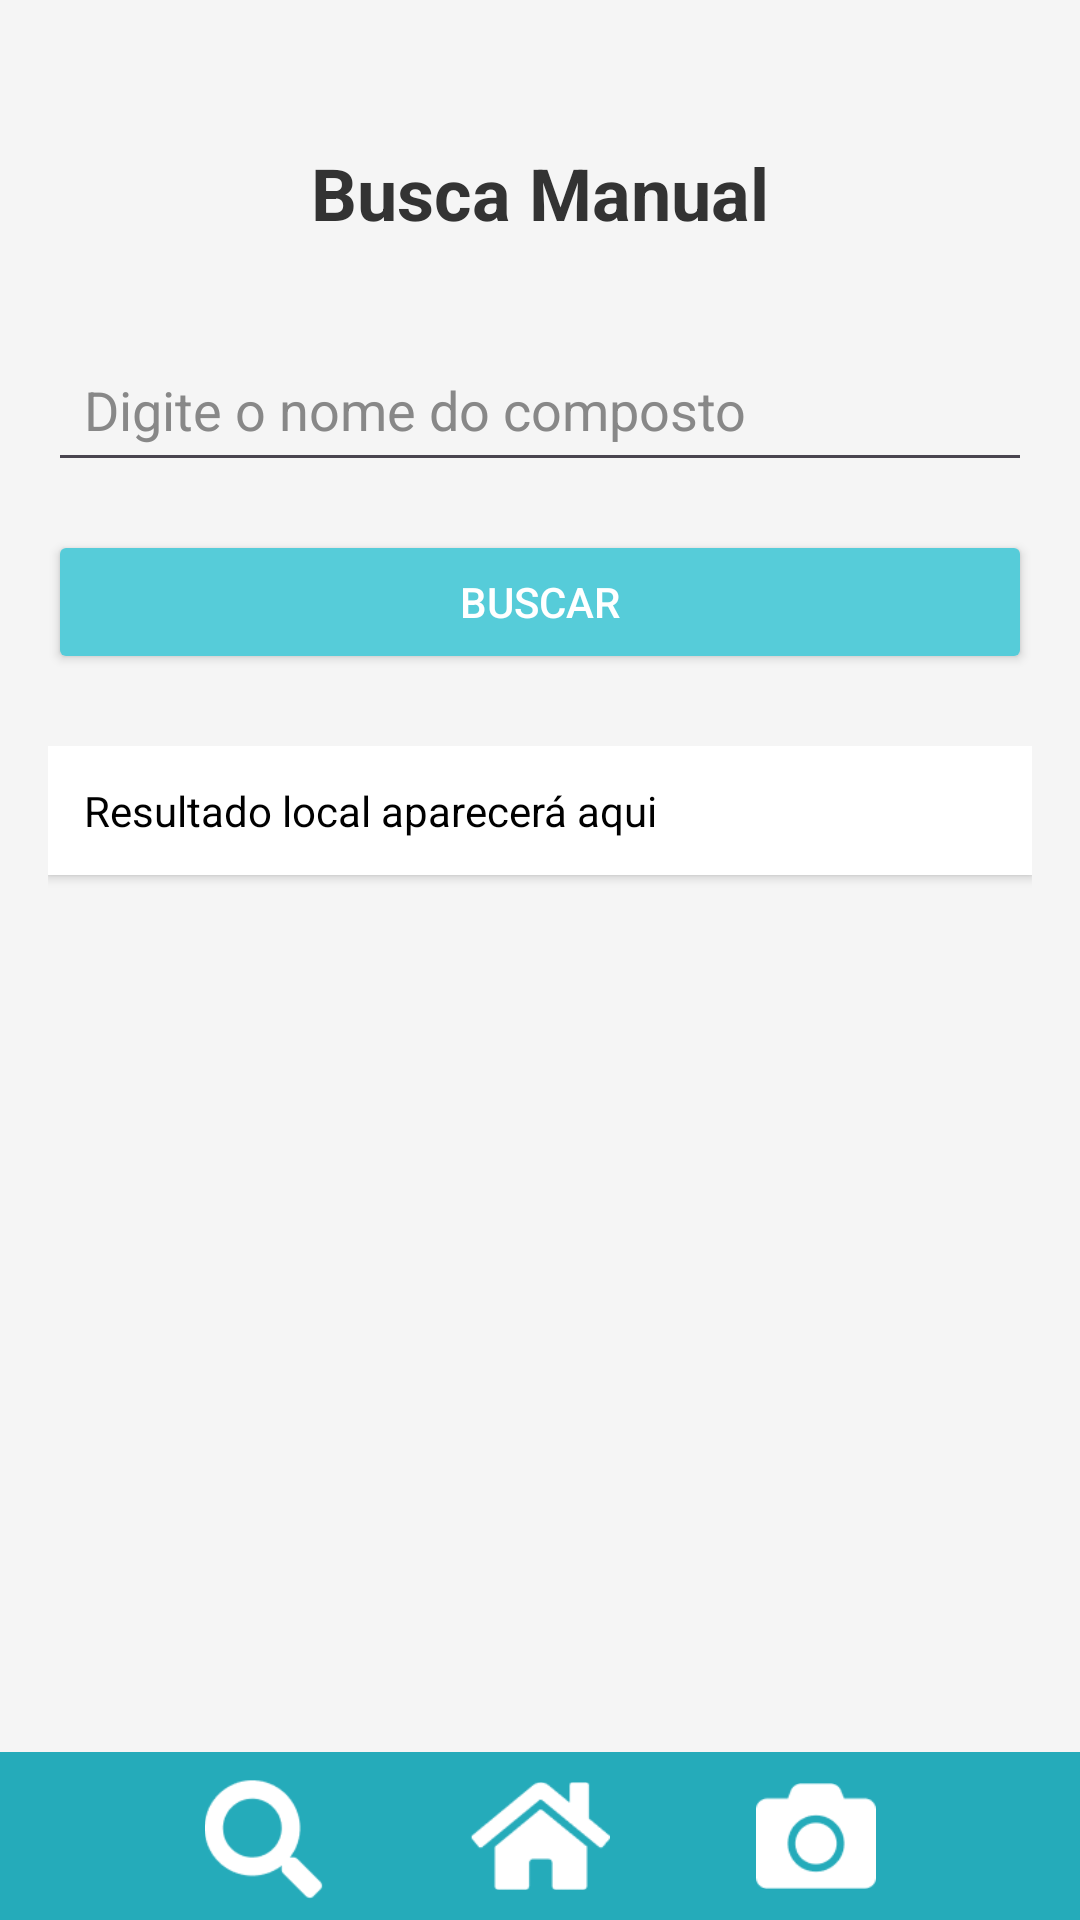

Named icons in this screenshot (1080 × 1920) and their centers, point (x, y):
camera: point (816, 1836)
home: point (540, 1836)
search: point (263, 1839)
